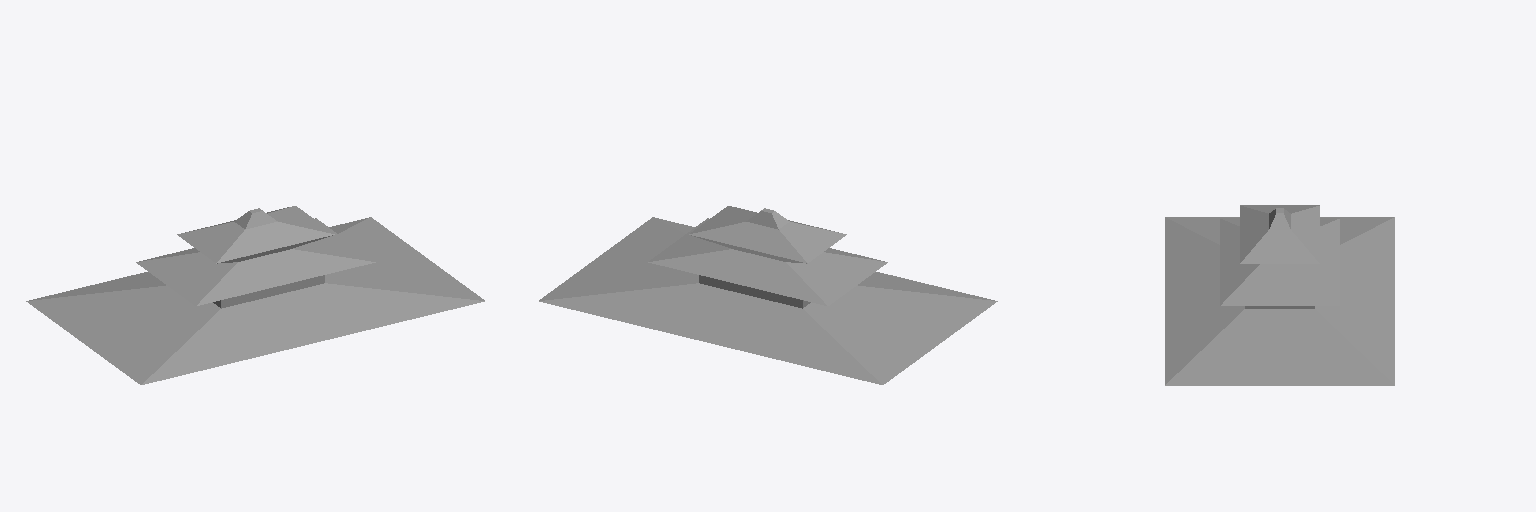
Rendered from ceiling.obj.
3 renders of one model, left to right at view 1: azimuth 30°, elevation 25°; view 2: azimuth 150°, elevation 25°; view 3: azimuth 270°, elevation 25°, orthographic.
Visible parts, largest first — view 1: ceiling_Plane.005; view 2: ceiling_Plane.005; view 3: ceiling_Plane.005.
Boxes of the visible parts, <box> form: ceiling_Plane.005: <box>26,206,484,384</box>; ceiling_Plane.005: <box>539,206,997,384</box>; ceiling_Plane.005: <box>1165,205,1394,385</box>.
Size of the model in its own units: 14.12 by 3.54 by 8.16.